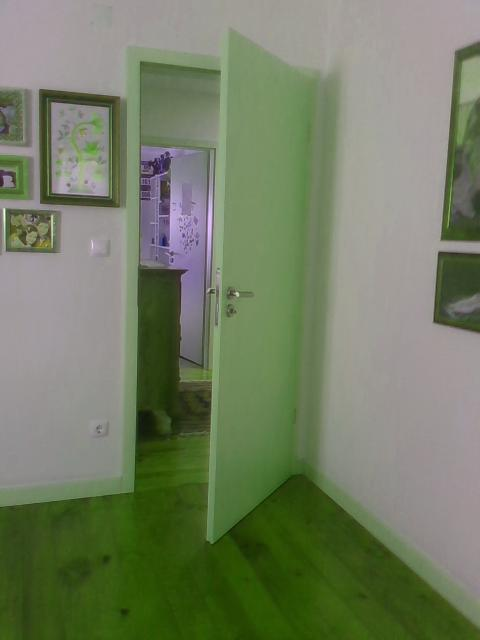semi_door: (122, 22, 318, 547)
